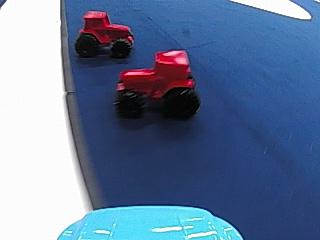Tracktor: (111, 46, 202, 119), (76, 7, 134, 59)
